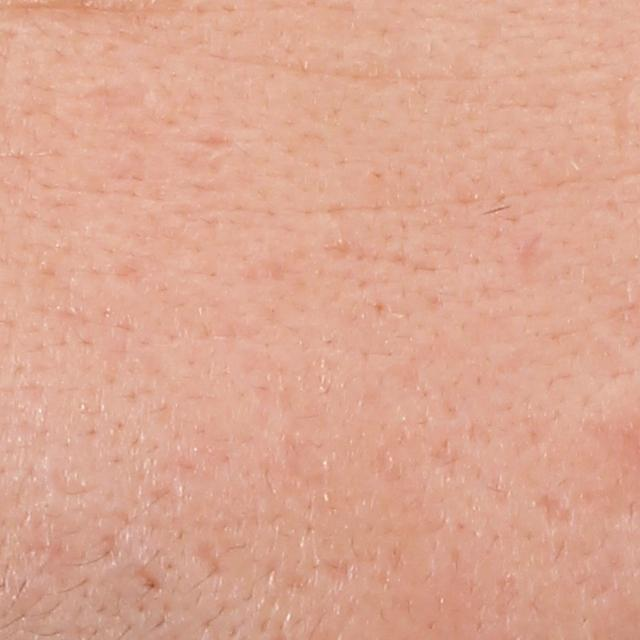atrophic_scar: (533, 495, 577, 532), (192, 540, 226, 582)
